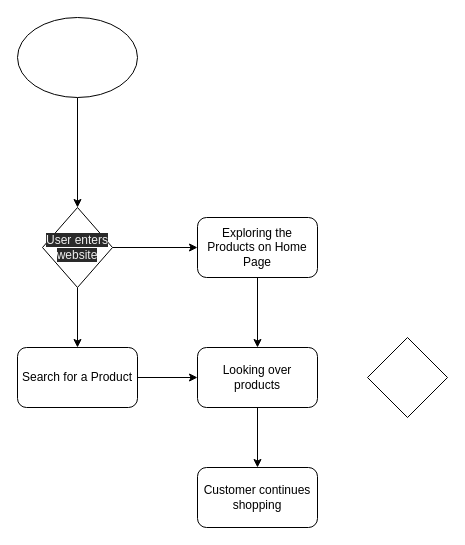
This 465x545 diagram has some shape labels left out. The shapes that lost their labels are listed below. From the top down, each one's box as (x1, y1, x2, y2) in pixels, then its label:
(16, 16, 138, 98): Start
(366, 336, 448, 418): View Specific Product
